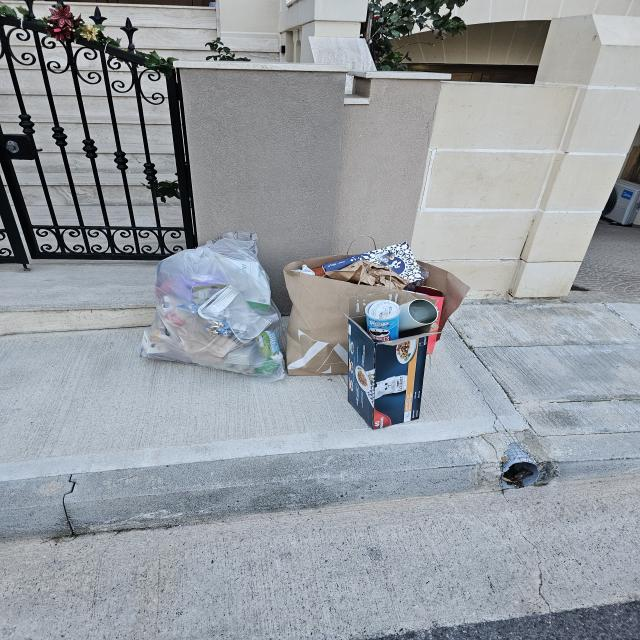grey_bag: (139, 234, 285, 382)
other_waste: (288, 237, 468, 430)
